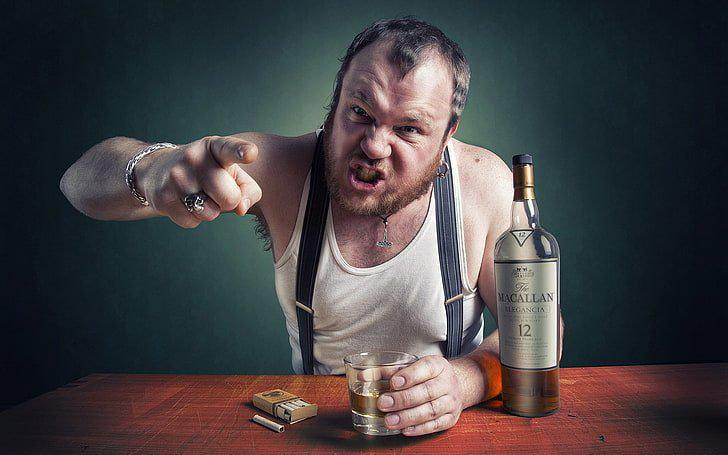Drunk: (334, 55, 445, 210)
